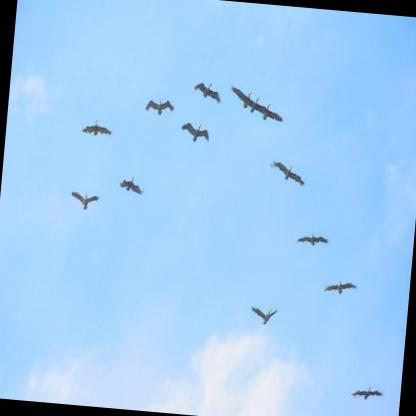bird: (267, 157, 313, 195), (76, 112, 118, 147), (141, 91, 180, 127), (176, 116, 216, 149), (296, 227, 336, 260), (322, 272, 360, 305), (350, 376, 388, 407), (248, 301, 284, 332), (191, 79, 227, 108), (71, 187, 104, 214), (119, 171, 145, 197)
